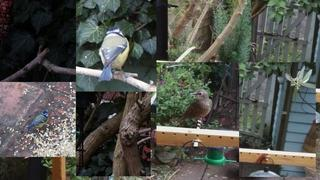blue tit: (98, 27, 130, 81), (27, 109, 49, 130)
starling: (176, 89, 212, 129)
